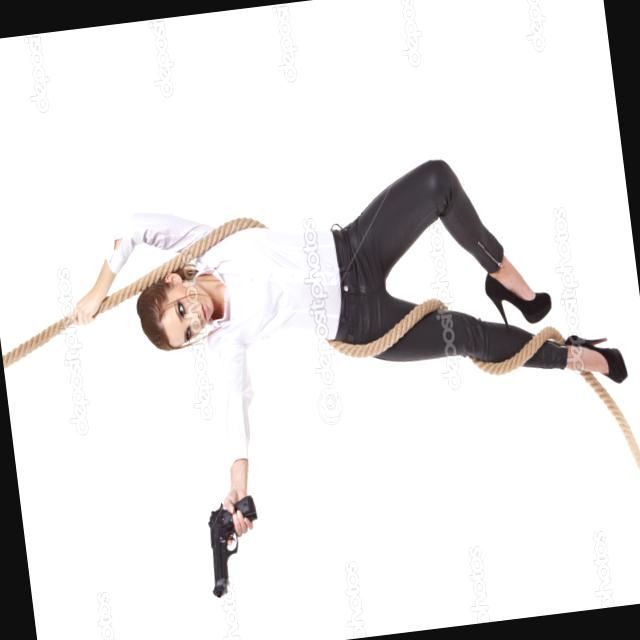handgun: (196, 486, 268, 599)
